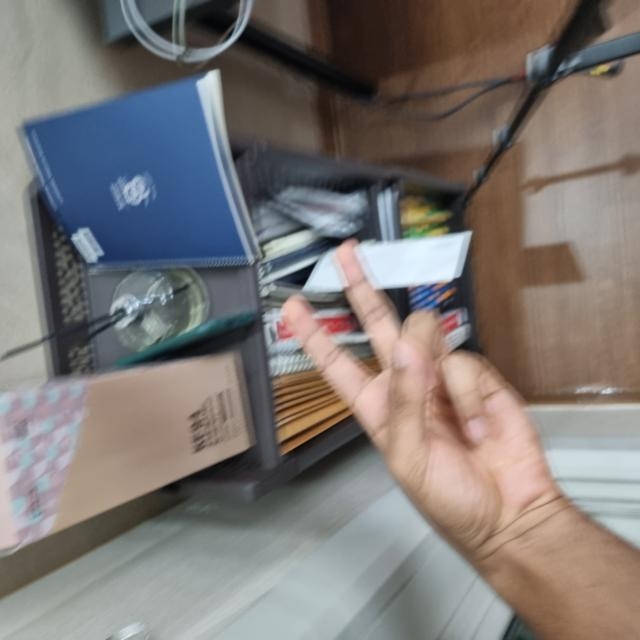Scissors: (94, 279, 395, 553)
